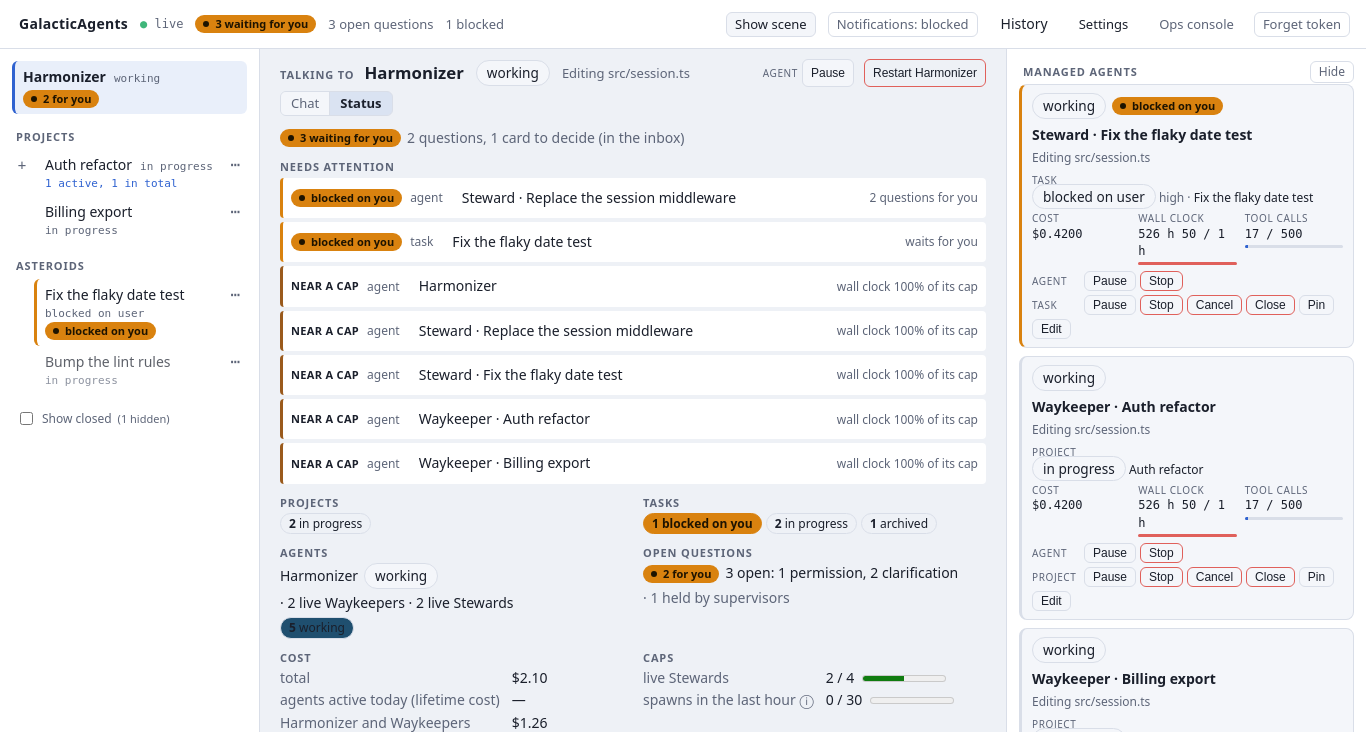
it: list mode: the panel without the scene (P5-04) › reaches the history and inspects archived work
The image size is (1366, 732).
Click the link "History" at (1024, 24), box [1001,14,1048,33]
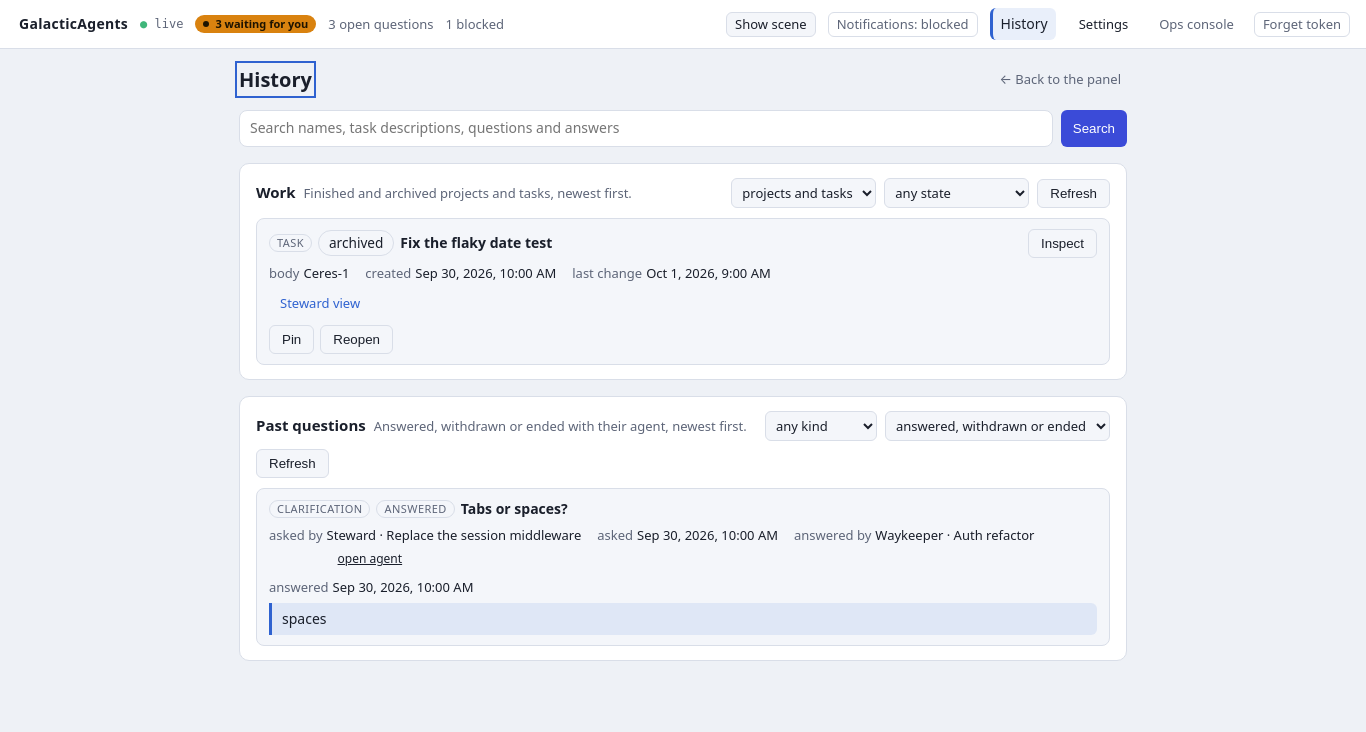
Click the button with aria-label "Inspect Fix the flaky date test" at (1062, 243), box [1028,229,1097,258]
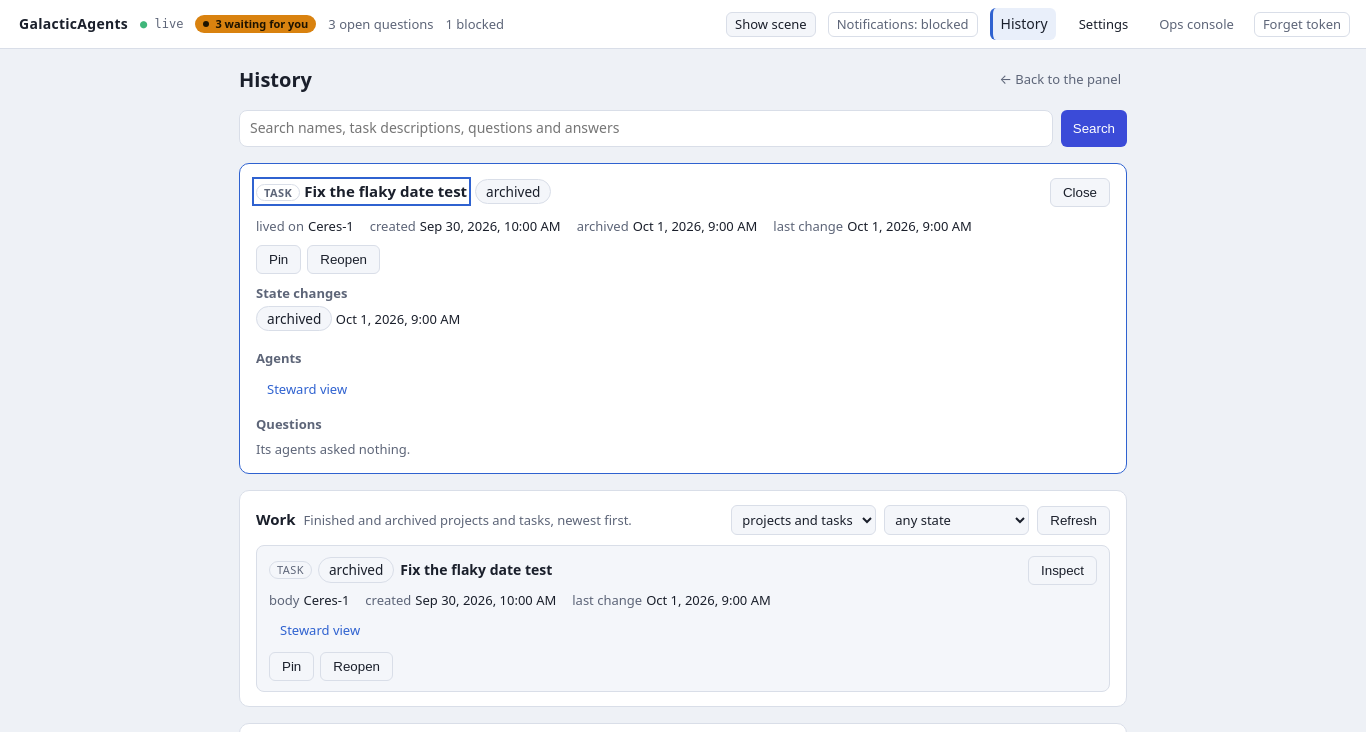
Result: the element named "details of Fix the flaky date test" is shown at [239,163,1127,474]
